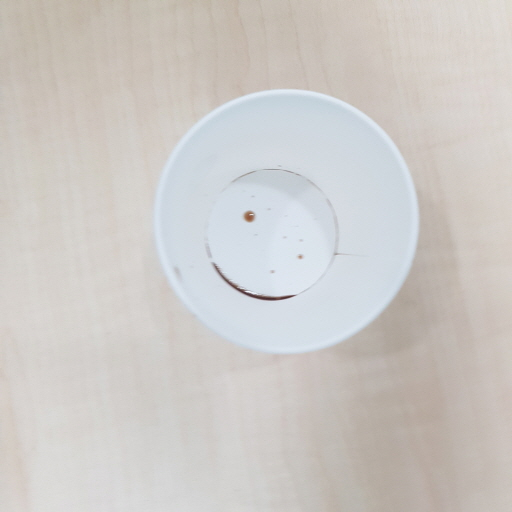Paper_1: (147, 88, 421, 353)
